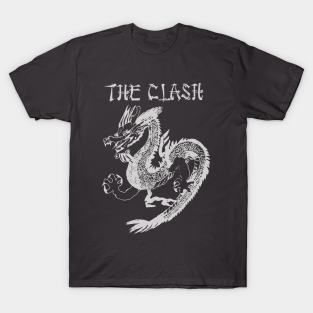design: (99, 81, 212, 236)
